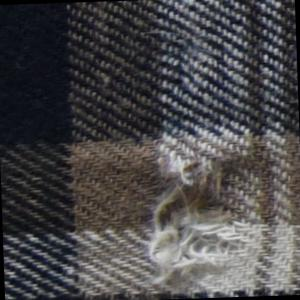Damage: (137, 132, 262, 293), (158, 24, 224, 100)
